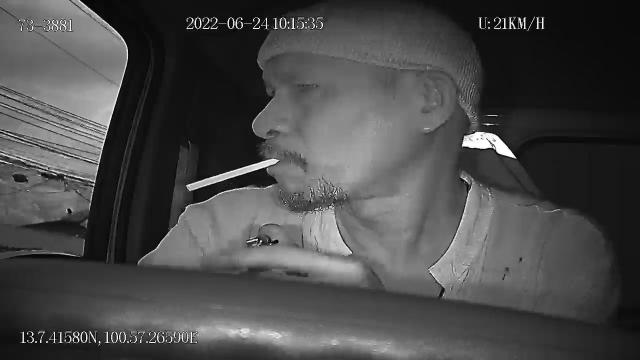Cigarette: (182, 150, 284, 196)
